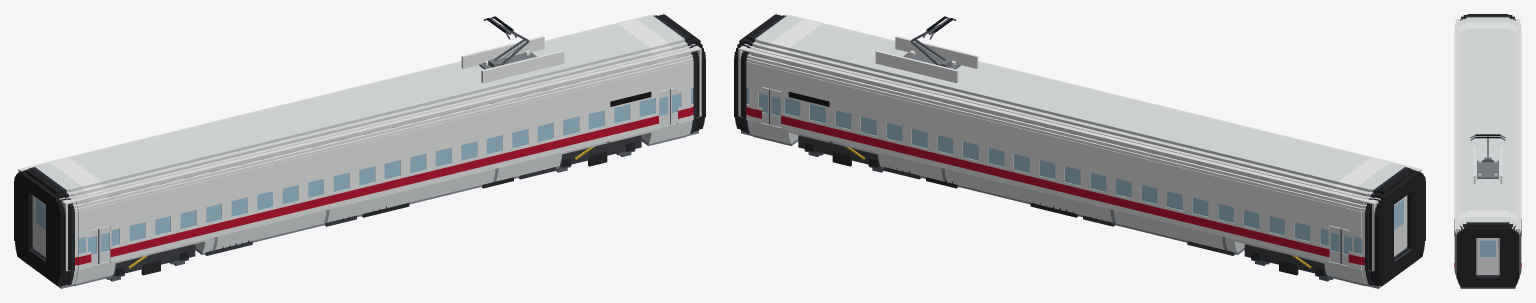
Rendered from fuxing_car.obj.
The picture shows the model from 3 angles, left to right: view 1: azimuth 30°, elevation 25°; view 2: azimuth 150°, elevation 25°; view 3: azimuth 270°, elevation 25°; orthographic projection. The views are drawn at different scales.
Parts seen in each view (by area): view 1: SHELL, SHELL_ceiling, SHELL_diaphragm, SHELL_pantograph, BOGEY_REAR, BOGEY_FRONT, FRAME, SHELL_end, CONNECTING_DOOR_1_CG_CR_TOGGLE_TL_0.98_Z, EXTERNAL_DOOR_5_CG_DR1_TOGGLE_TL_0.44_X, EXTERNAL_DOOR_10_CG_DR2_TOGGLE_TL_-0.44_X; view 2: SHELL, SHELL_ceiling, SHELL_diaphragm, SHELL_pantograph, BOGEY_REAR, BOGEY_FRONT, FRAME, SHELL_end, CONNECTING_DOOR_1_CG_CR_TOGGLE_TL_0.98_Z, EXTERNAL_DOOR_8_CG_DL1_TOGGLE_TL_0.44_X, EXTERNAL_DOOR_13_CG_DL2_TOGGLE_TL_-0.44_X; view 3: SHELL, SHELL_diaphragm, SHELL_ceiling, SHELL_pantograph, CONNECTING_DOOR_2_CG_CF_TOGGLE_TL_0.98_Z, SHELL_end, SHELL_floor.
Part boxes in pixels (x1,y1,x2,y2): SHELL: (21,14,702,288); SHELL_ceiling: (21,14,699,204); SHELL_diaphragm: (14,14,705,285); SHELL_pantograph: (461,16,564,83); BOGEY_REAR: (112,244,195,276); BOGEY_FRONT: (559,135,641,167); FRAME: (205,167,555,255); SHELL_end: (18,14,701,271); CONNECTING_DOOR_1_CG_CR_TOGGLE_TL_0.98_Z: (34,197,45,256); EXTERNAL_DOOR_5_CG_DR1_TOGGLE_TL_0.44_X: (98,225,111,263); EXTERNAL_DOOR_10_CG_DR2_TOGGLE_TL_-0.44_X: (659,89,670,127); SHELL: (737,14,1418,288); SHELL_ceiling: (740,14,1418,204); SHELL_diaphragm: (734,14,1425,285); SHELL_pantograph: (875,16,978,83); BOGEY_REAR: (1244,244,1327,276); BOGEY_FRONT: (798,135,880,167); FRAME: (884,166,1234,255); SHELL_end: (738,14,1421,271); CONNECTING_DOOR_1_CG_CR_TOGGLE_TL_0.98_Z: (1394,197,1405,256); EXTERNAL_DOOR_8_CG_DL1_TOGGLE_TL_0.44_X: (1328,225,1340,263); EXTERNAL_DOOR_13_CG_DL2_TOGGLE_TL_-0.44_X: (769,89,780,127); SHELL: (1454,14,1521,288); SHELL_diaphragm: (1456,15,1519,287); SHELL_ceiling: (1455,19,1520,228); SHELL_pantograph: (1470,134,1505,183); CONNECTING_DOOR_2_CG_CF_TOGGLE_TL_0.98_Z: (1478,238,1497,274); SHELL_end: (1455,18,1520,274); SHELL_floor: (1477,238,1498,273).
Bounding box in the file's own units: 25.32 × 5.68 × 3.38.
Materials: 1 (1 with a texture image).
